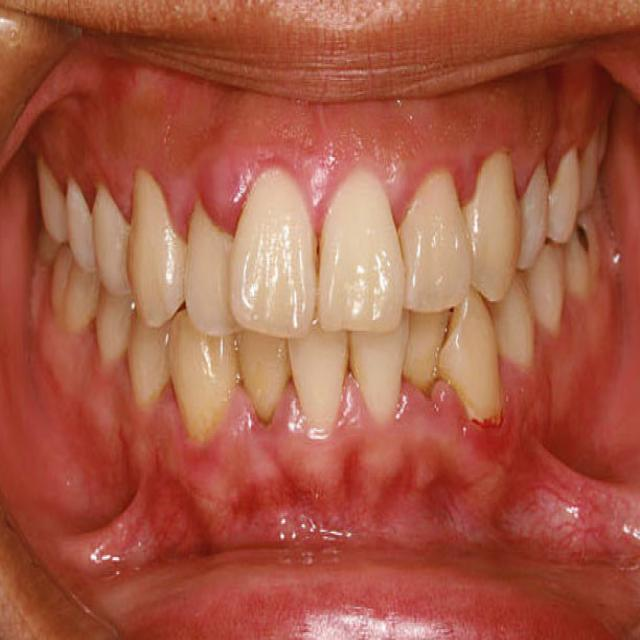caries: (568, 208, 598, 273)
